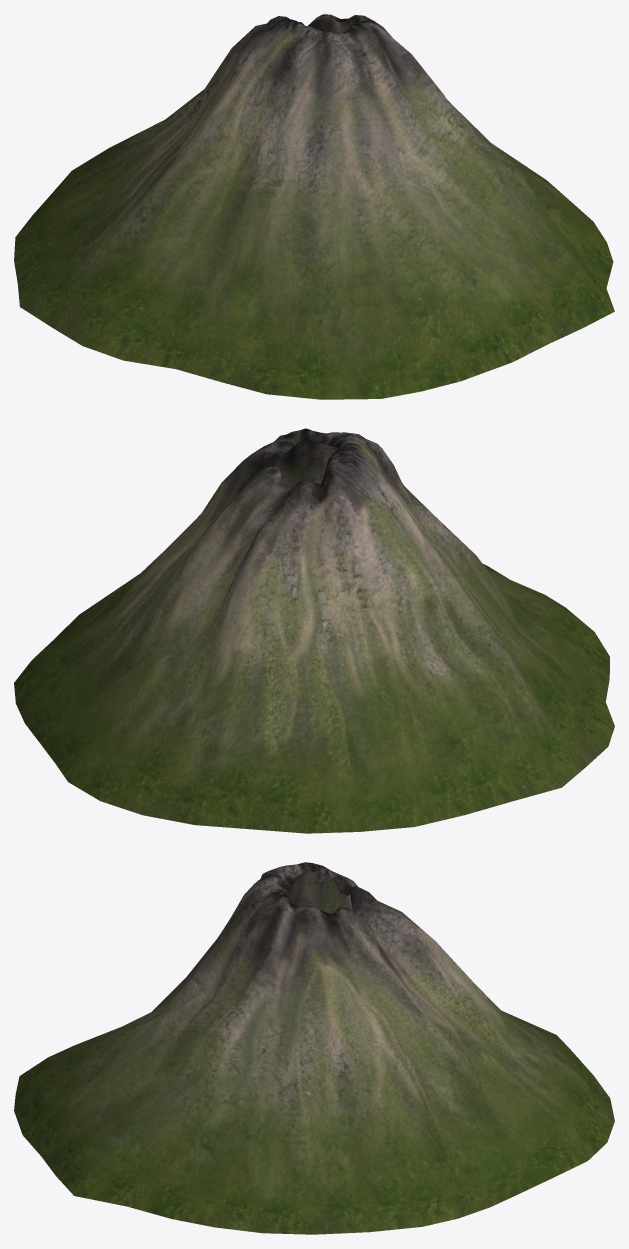
The model's file is volcano_sleep0.obj.
3 renders of one model, top to bottom at view 1: azimuth 30°, elevation 25°; view 2: azimuth 150°, elevation 25°; view 3: azimuth 270°, elevation 25°, orthographic. The views are drawn at different scales.
Size of the model in its own units: 7.54 by 3.53 by 7.89.
Materials: 1 (1 with a texture image).
